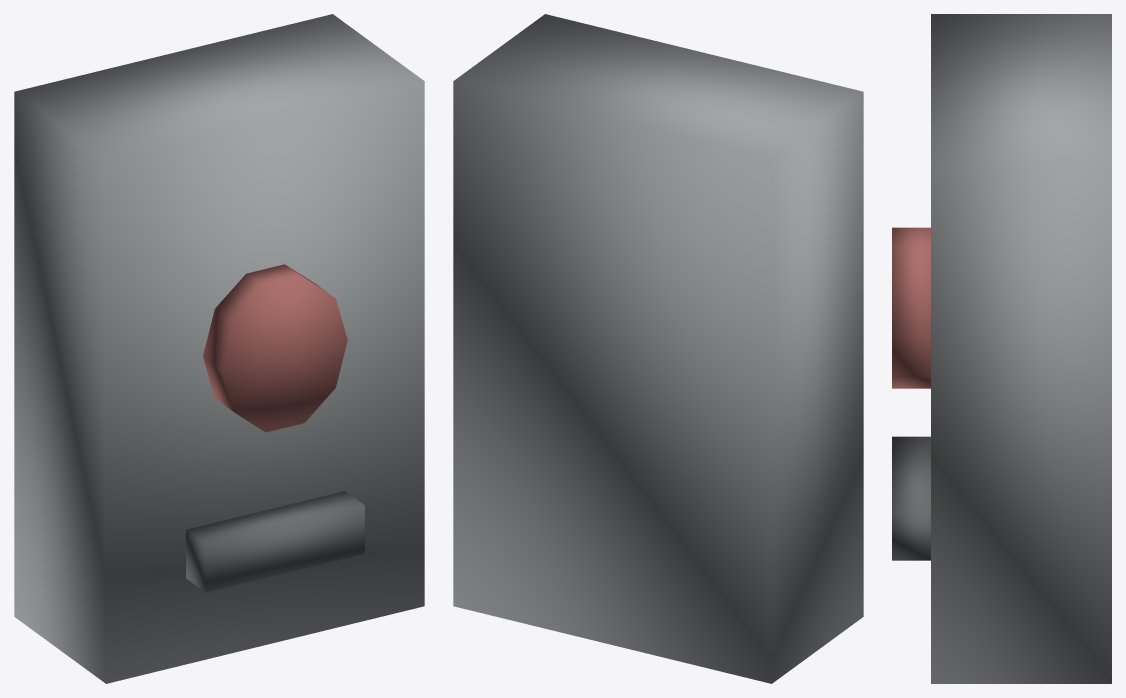
Rendered from sanitation_dispenser__tall.glb.
3 views of the same model, side by side, from view 1: azimuth 30°, elevation 25°; view 2: azimuth 150°, elevation 25°; view 3: azimuth 270°, elevation 25° (orthographic).
Parts seen in each view (by area): view 1: world; view 2: world; view 3: world.
Boxes of the visible parts, x1,y1,x2,y2 form: world: [14, 14, 424, 683]; world: [453, 14, 863, 683]; world: [892, 14, 1111, 683].
Bounding box in the file's own units: 0.28 × 0.4408 × 0.17.
